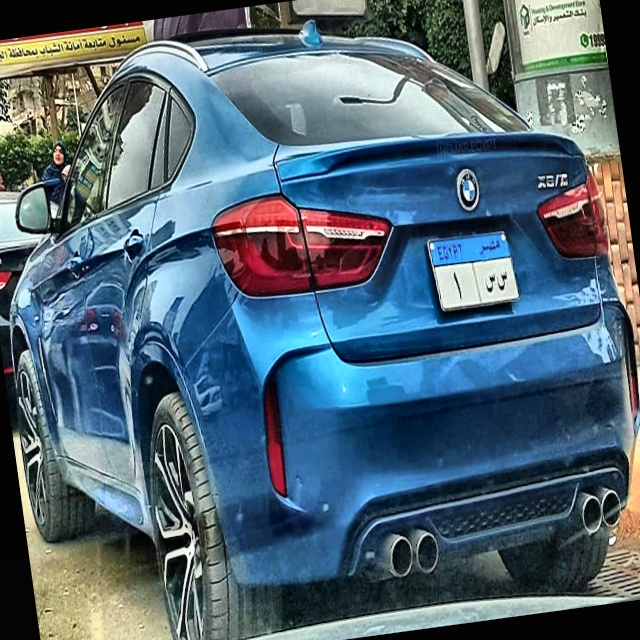License Plate: (425, 224, 523, 319)
